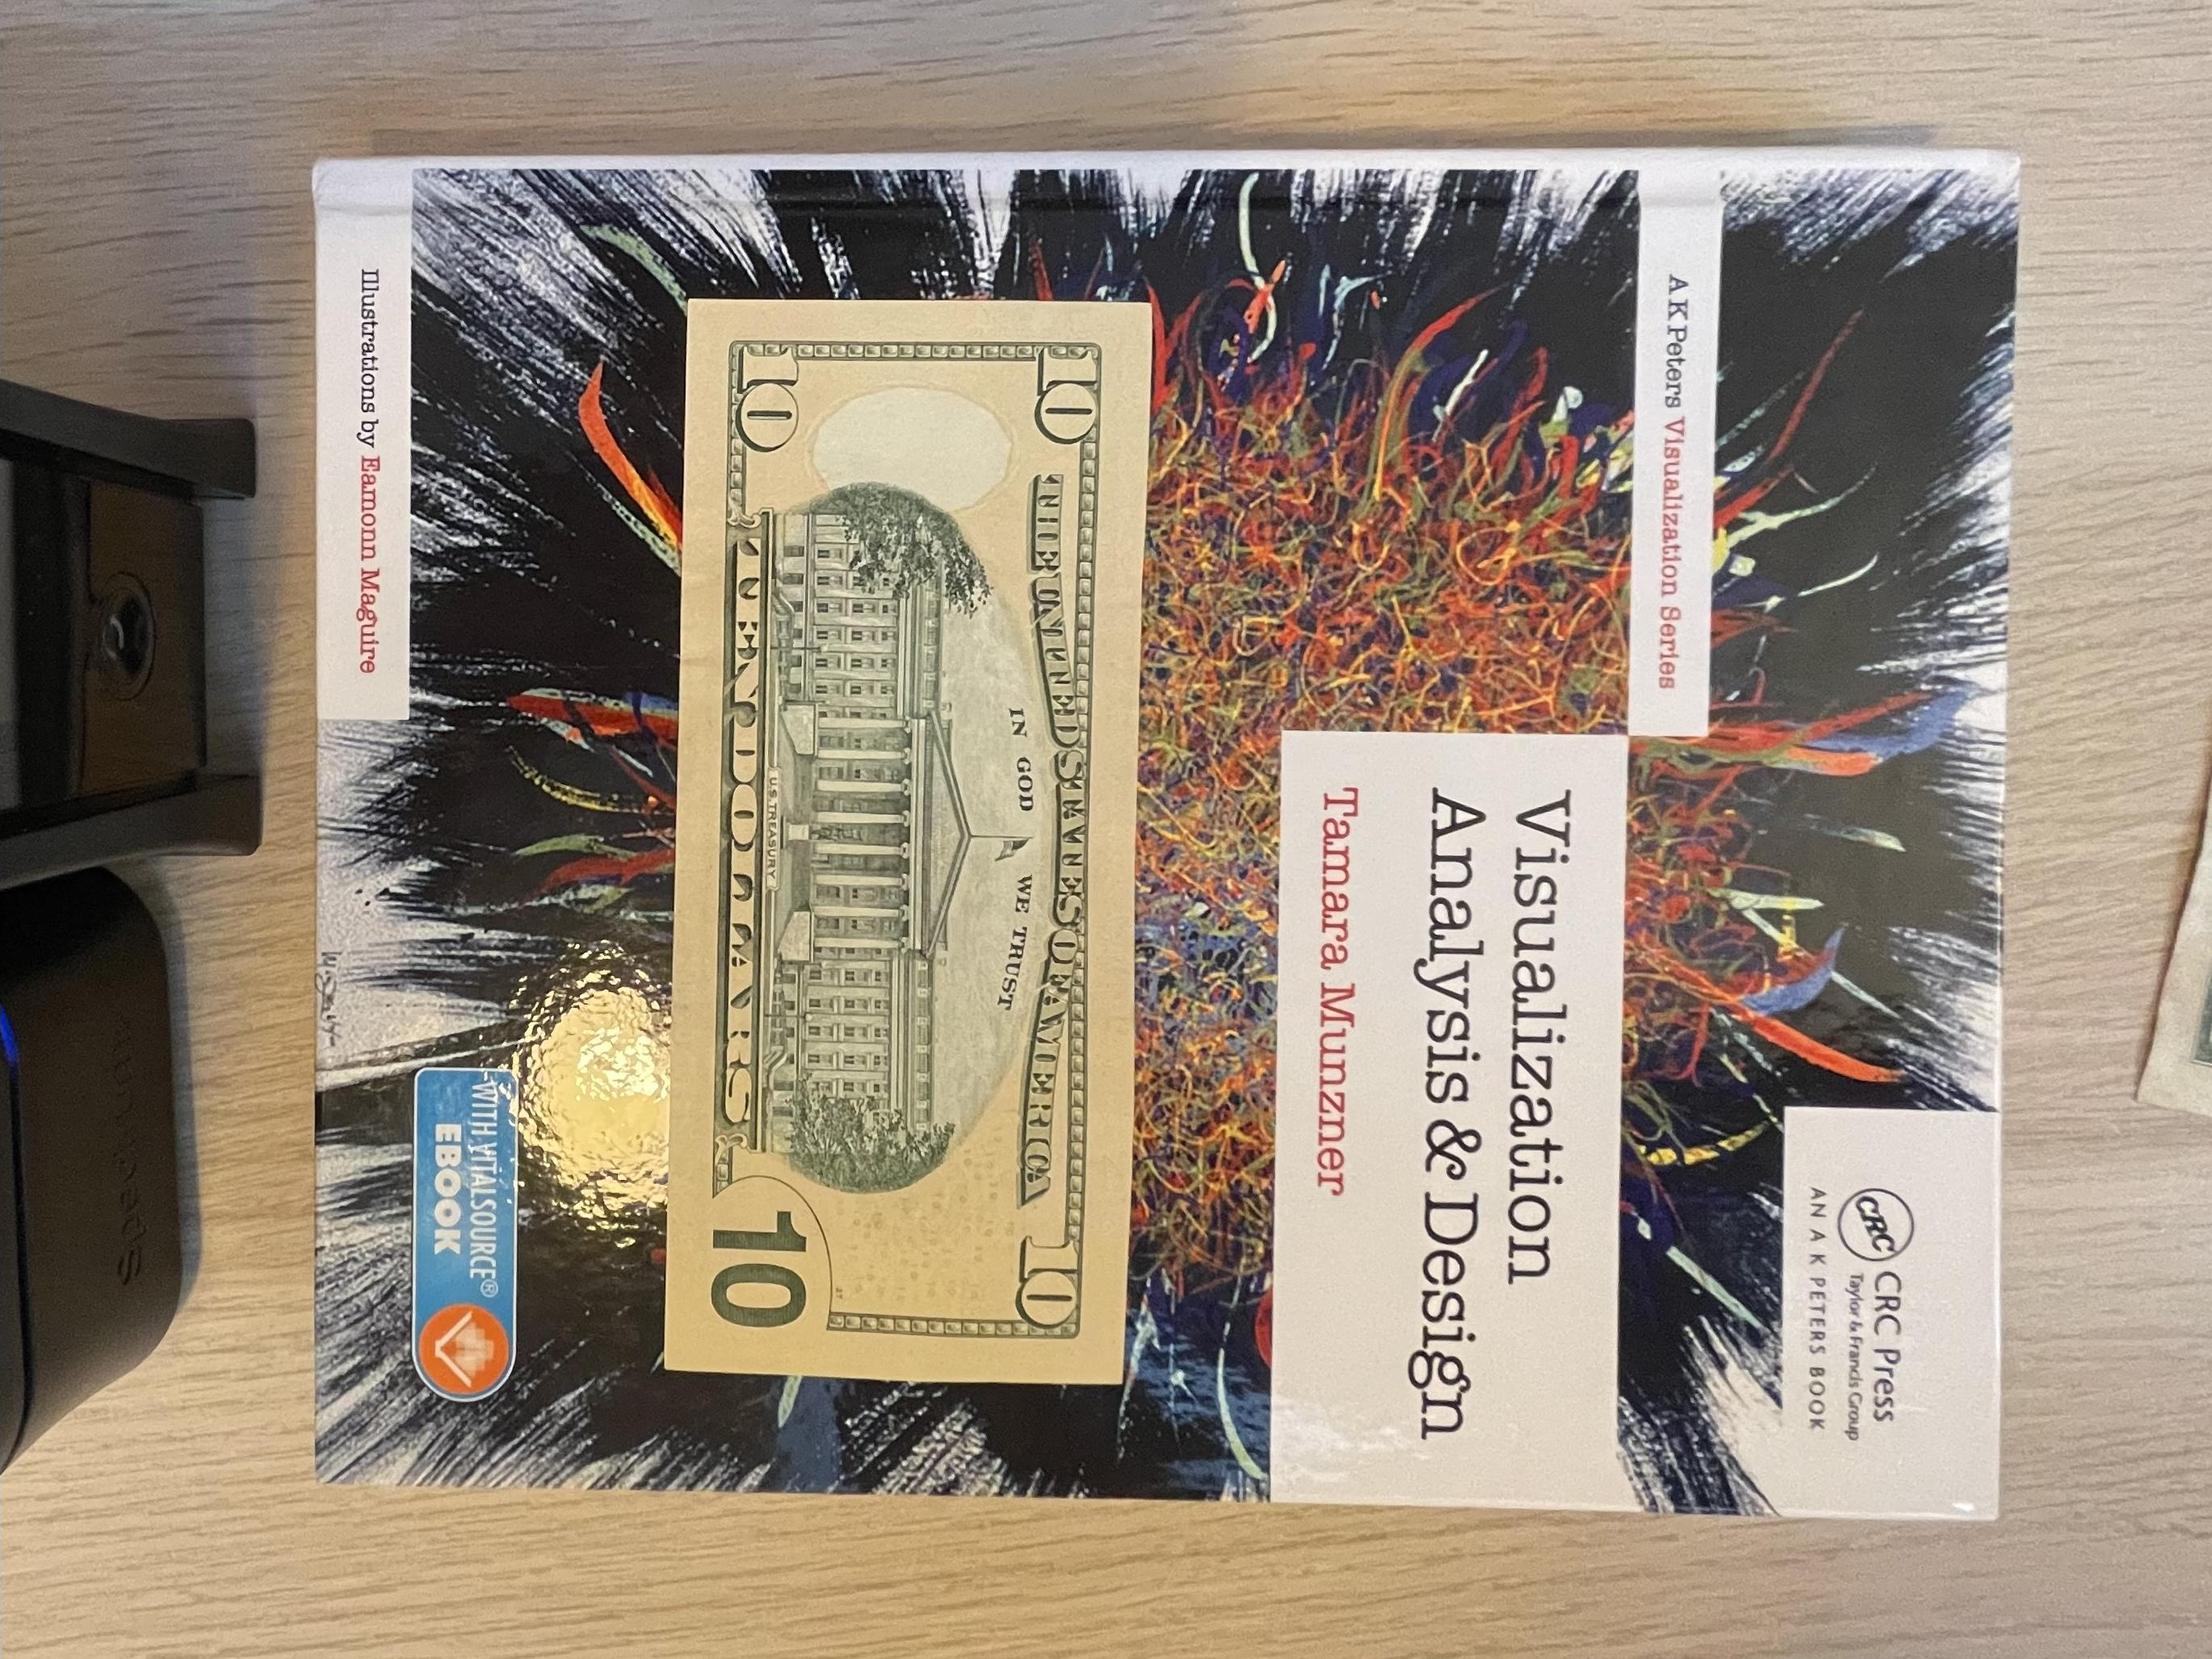TenBill: (662, 296, 1155, 1387)
